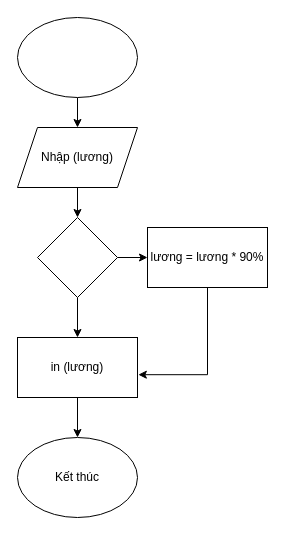
Image size: 285x535. Some labels were removed from this diagram. The shapes that lost their labels are listed below. From the top down, each one's centre as x and y in pixels, then its label:
At (77,57): "Bắt đầu".
At (77,257): "lương > 2 triệu".
